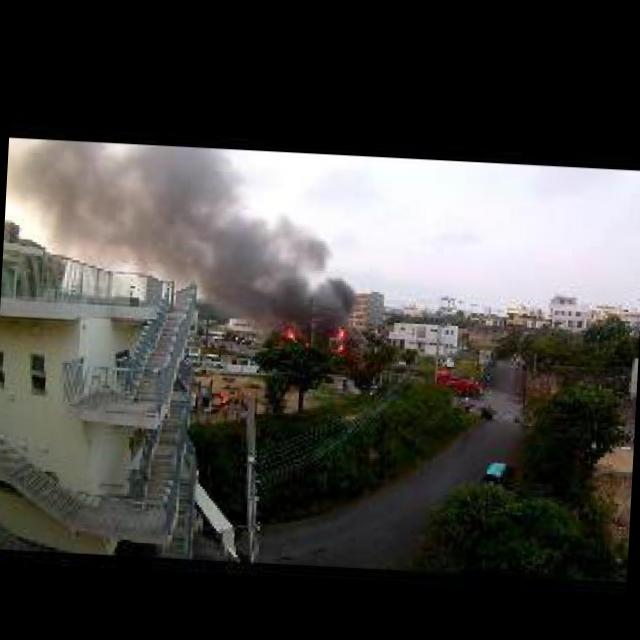fire: (334, 326, 346, 338), (336, 343, 344, 352), (288, 331, 295, 338)
smoke: (1, 137, 367, 320)
